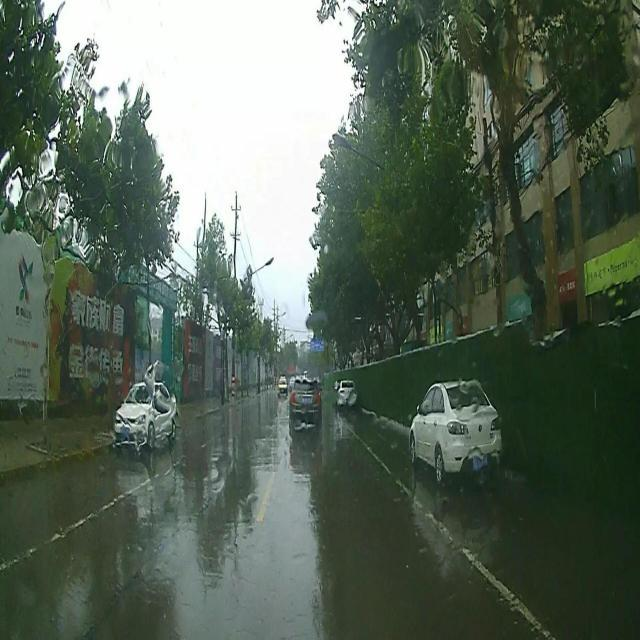car: (410, 381, 502, 488), (114, 386, 176, 449), (286, 376, 322, 436), (336, 382, 357, 412), (278, 382, 288, 396)
